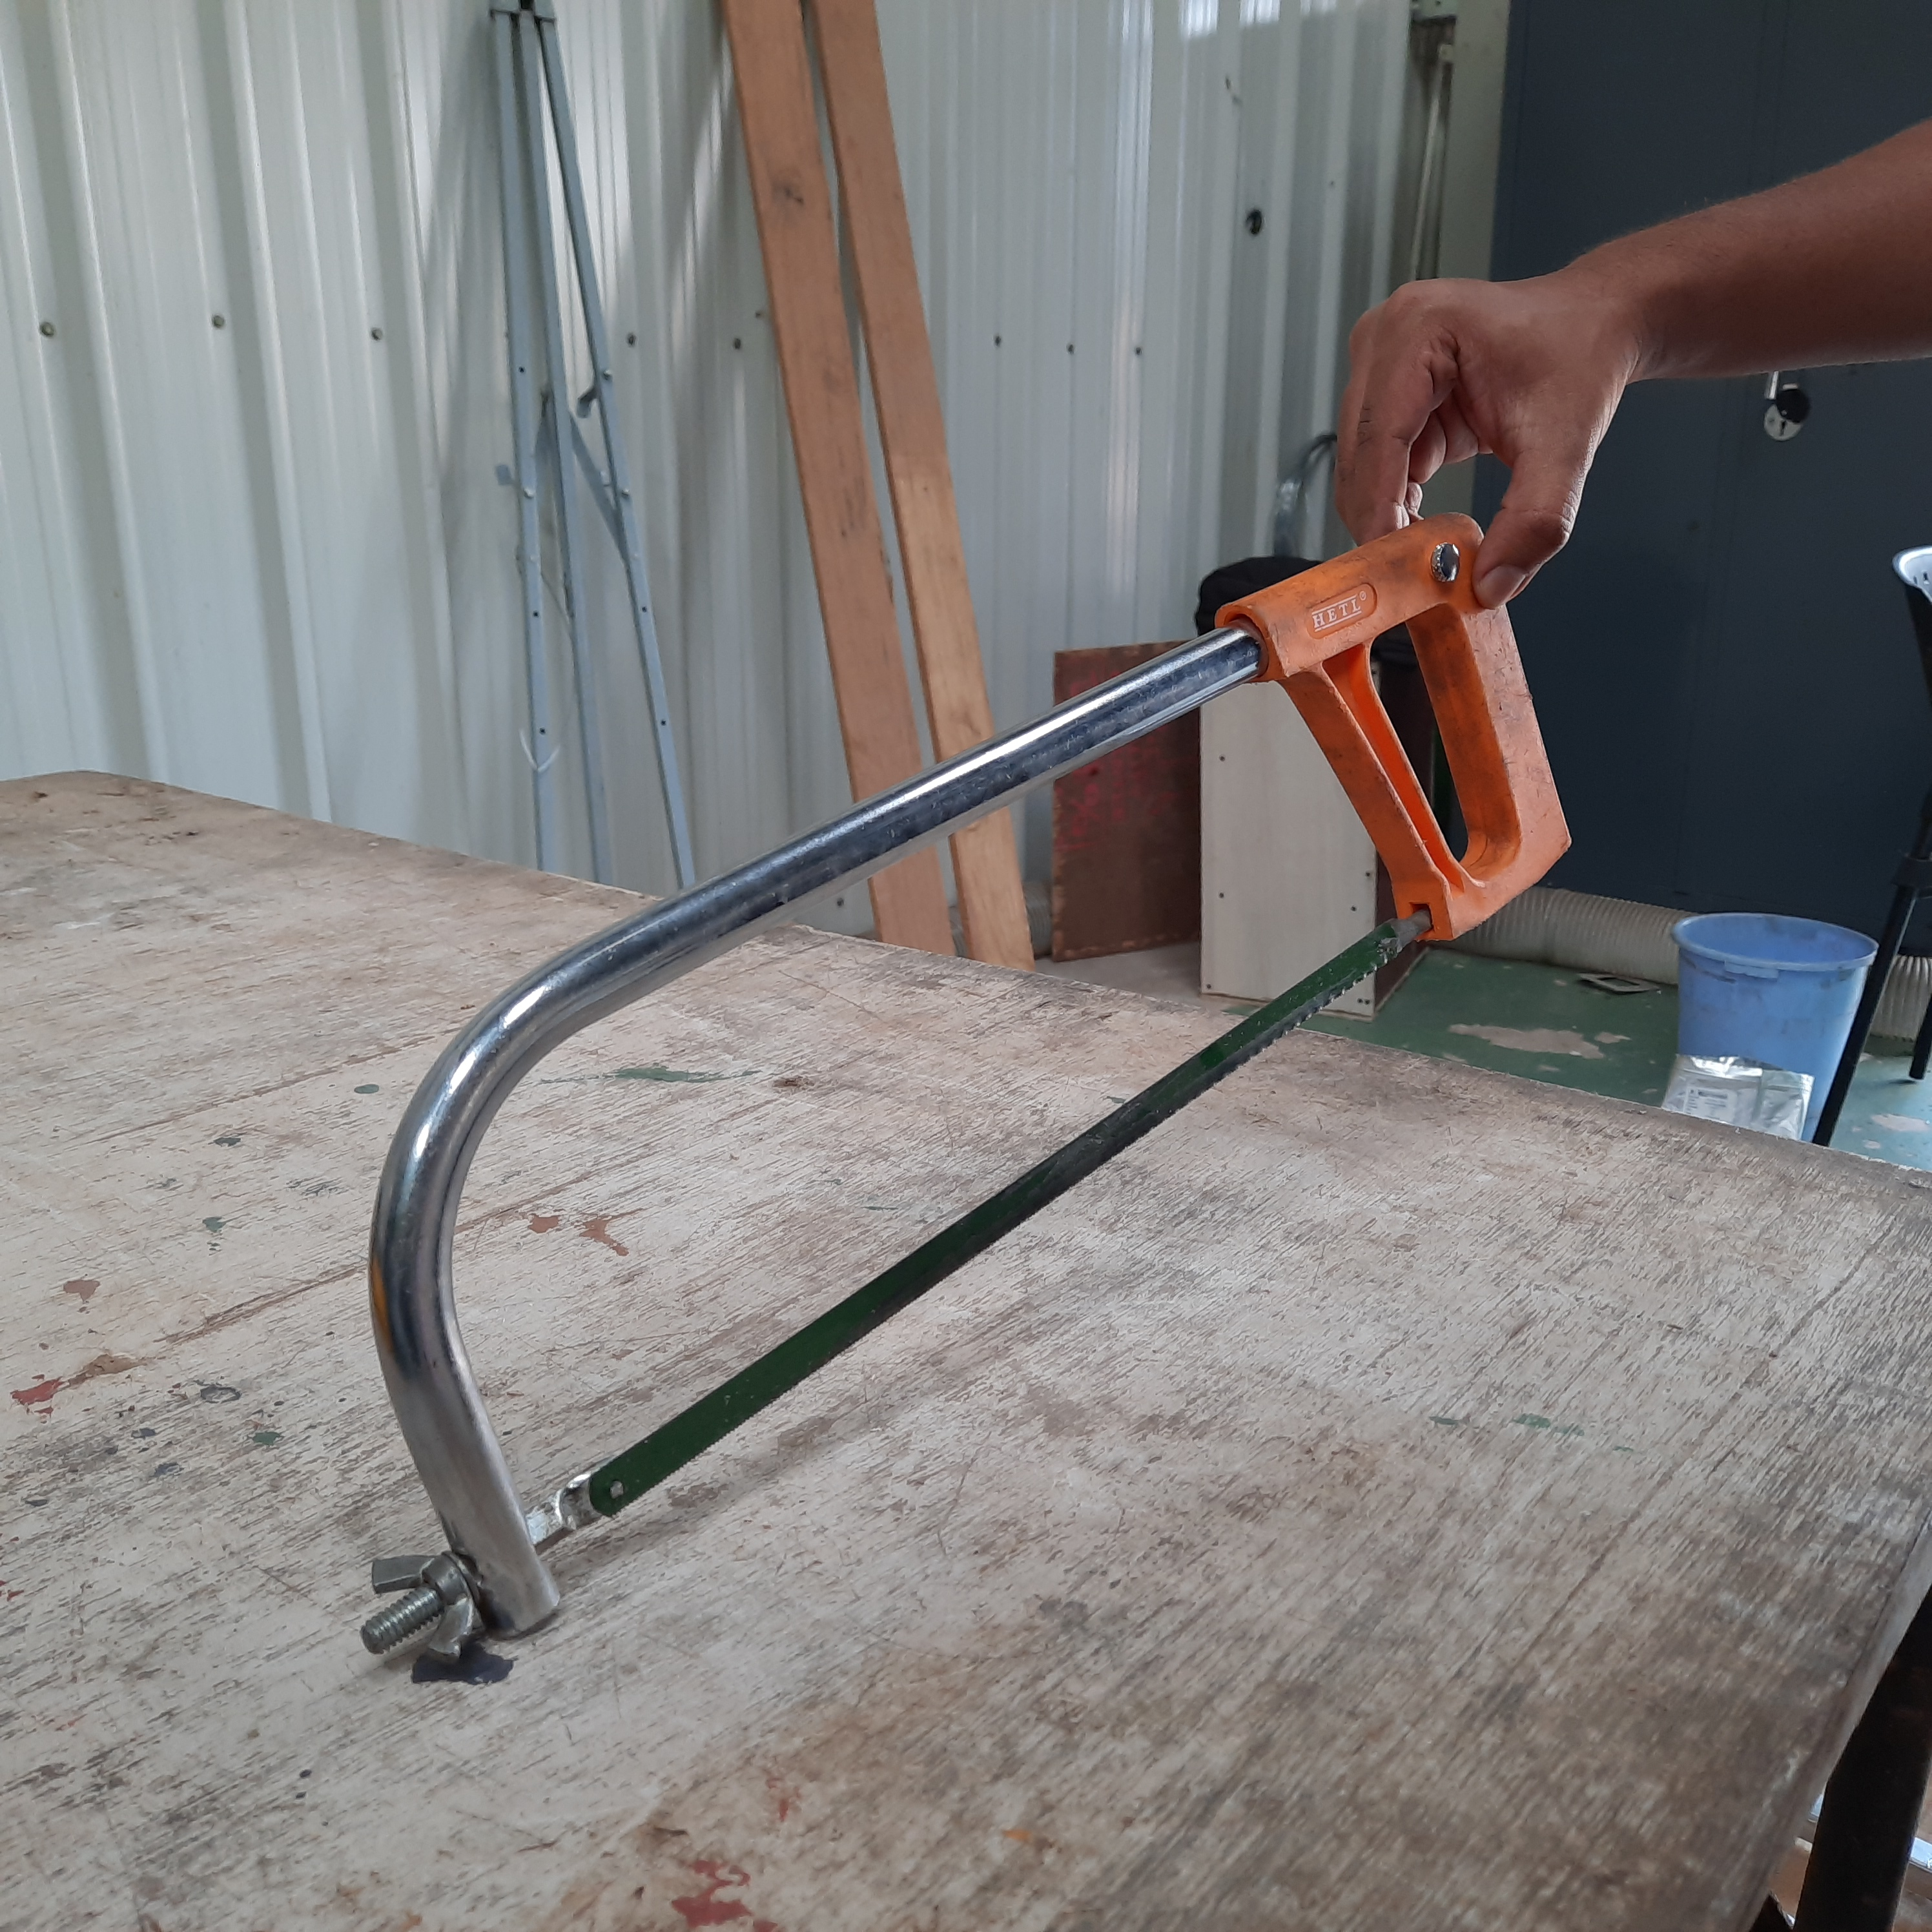Hexaframe: (322, 499, 1598, 1741)
